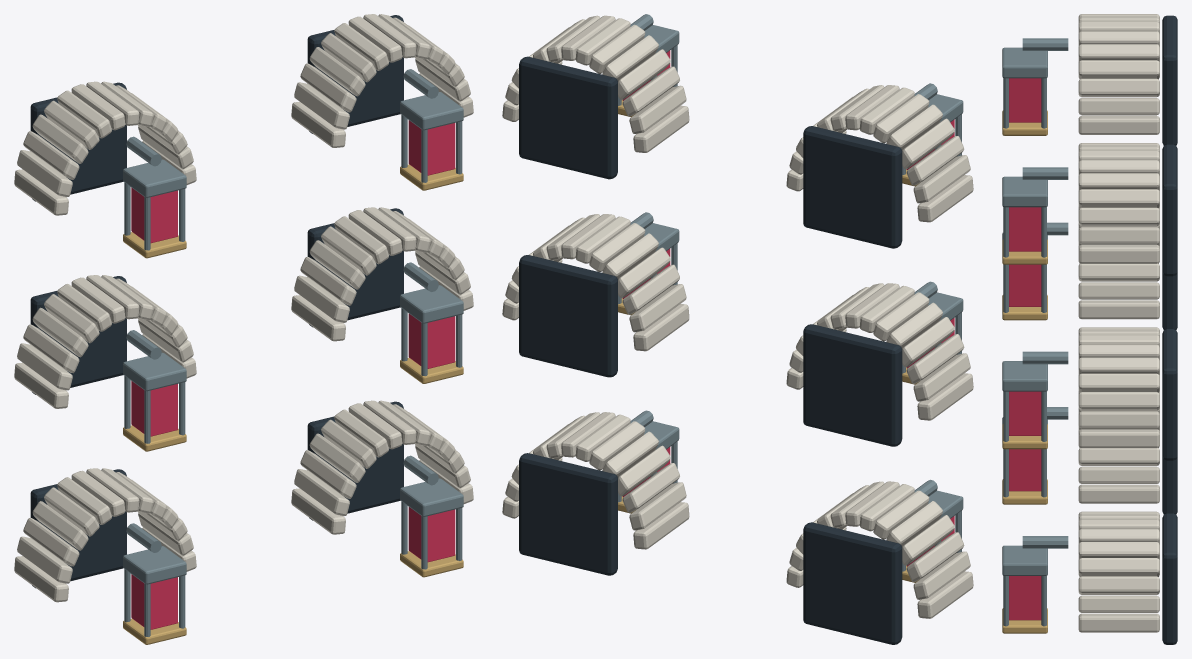
Rendered from a6_detail.glb.
3 renders of one model, left to right at view 1: azimuth 30°, elevation 25°; view 2: azimuth 150°, elevation 25°; view 3: azimuth 270°, elevation 25°, orthographic. The views are drawn at different scales.
Visible parts, largest first — view 1: Body.074; view 2: Body.074; view 3: Body.074.
Boxes of the visible parts, bbox=[...] form: Body.074: bbox=[14, 14, 473, 644]; Body.074: bbox=[502, 14, 973, 644]; Body.074: bbox=[1002, 14, 1177, 644].
Size of the model in its own units: 1.82 by 2.07 by 0.69.
